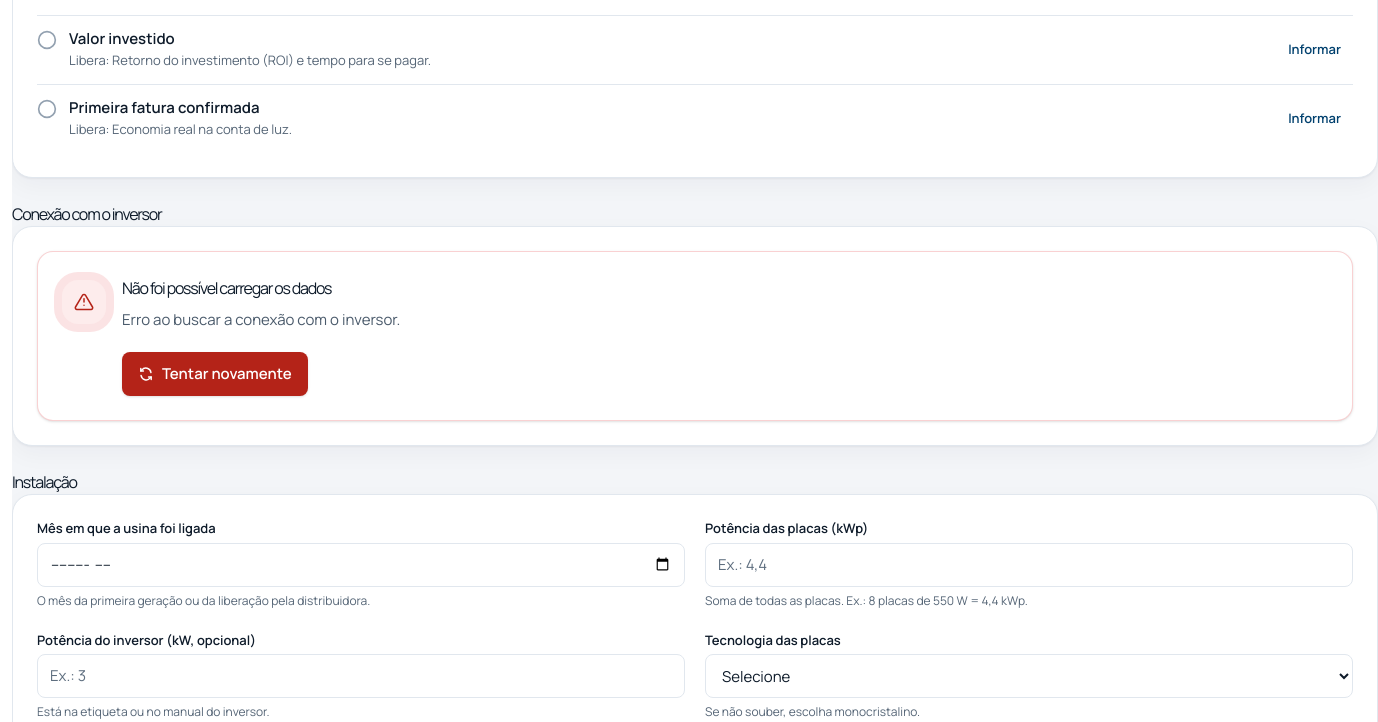
PlantSetupPage — conexão com o inversor (ADR-091) › erro ao buscar a conexão oferece nova tentativa
This screenshot has width=1378, height=722.
(page scrolled)
Check: the text "Erro ao buscar a conexão com o inversor." is shown, box [122, 309, 400, 330]
Click the button "Tentar novamente": [215, 374] box [122, 352, 308, 396]
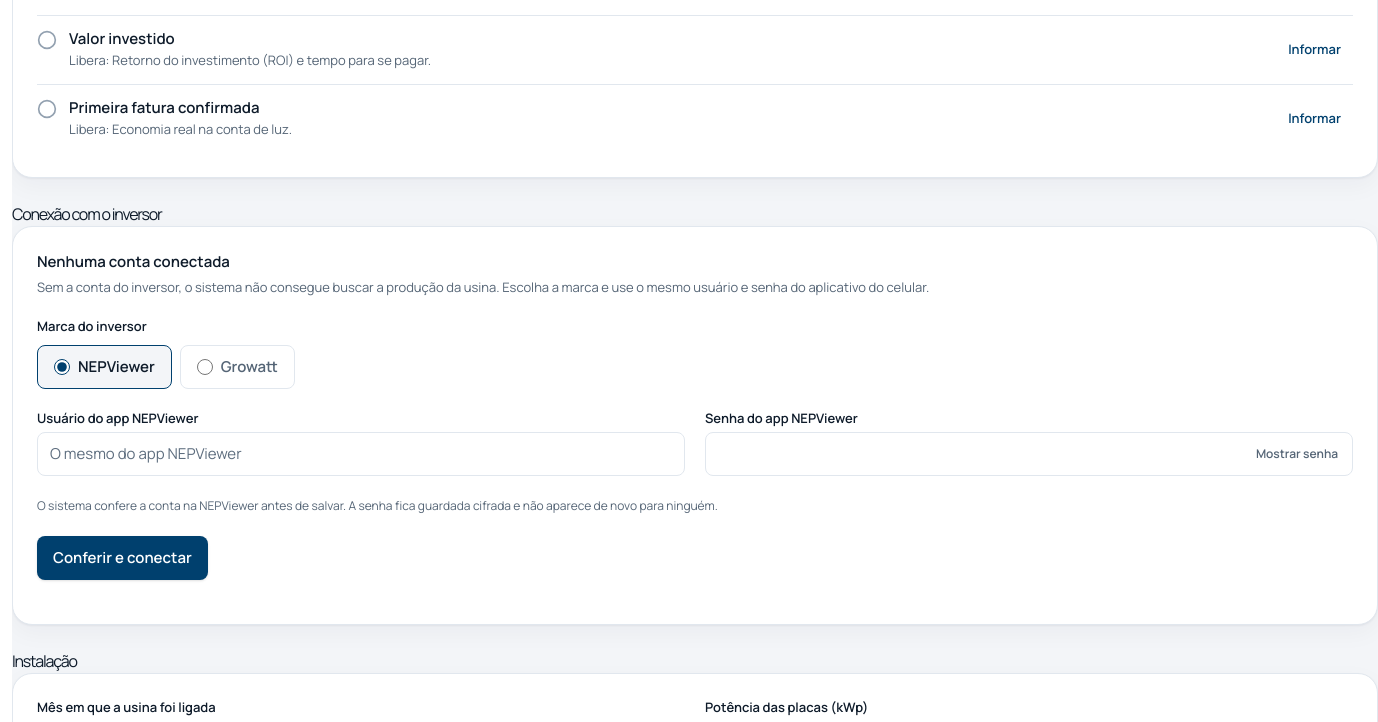
Check: the text "Nenhuma conta conectada" is shown, box [37, 251, 230, 272]
